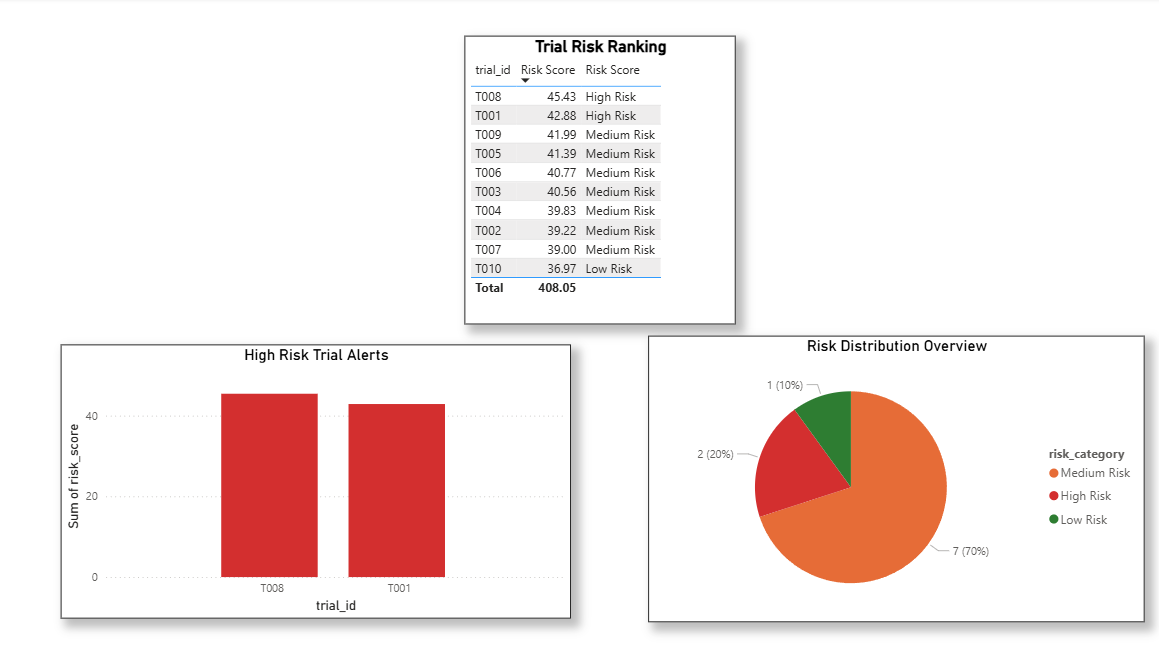

Layout of this report page (visuals, bound fields, positions):
{"tool":"powerbi","page":{"name":"Risk Monitoring","canvas":[1280,720],"ordinal":2},"visuals":[{"type":"tableEx","title":"Trial Risk Ranking","fields":{"Values":["trial_risk_scores.trial_id","Sum(trial_risk_scores.risk_score)","trial_risk_scores.risk_category"]},"box":[87.8,319.7,297.8,317],"z":0},{"type":"clusteredColumnChart","title":"High Risk Trial Alerts","fields":{"Category":["trial_risk_scores.trial_id"],"Y":["Sum(trial_risk_scores.risk_score)"]},"box":[418.5,6.9,358.1,352.7],"z":1000},{"type":"pieChart","title":"Risk Distribution Overview","fields":{"Category":["trial_risk_scores.risk_category"],"Y":["Count(trial_risk_scores.trial_id)"]},"box":[815.1,258,419.9,426.8],"z":2000}]}

Visuals, with their boxes in screenshot pixels (x1, y1, x2, y2), scaled from the page's 1280x720 canvas onto the 1159x647 screenshot:
"Trial Risk Ranking" tableEx: {"left": 80, "top": 287, "right": 349, "bottom": 572}
"High Risk Trial Alerts" clusteredColumnChart: {"left": 379, "top": 6, "right": 703, "bottom": 323}
"Risk Distribution Overview" pieChart: {"left": 738, "top": 232, "right": 1118, "bottom": 615}
